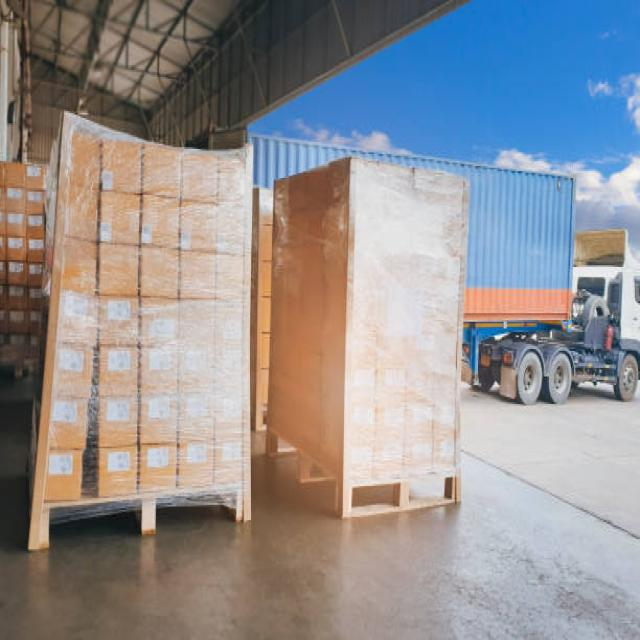Wooden-Pallets: (342, 472, 463, 522)
